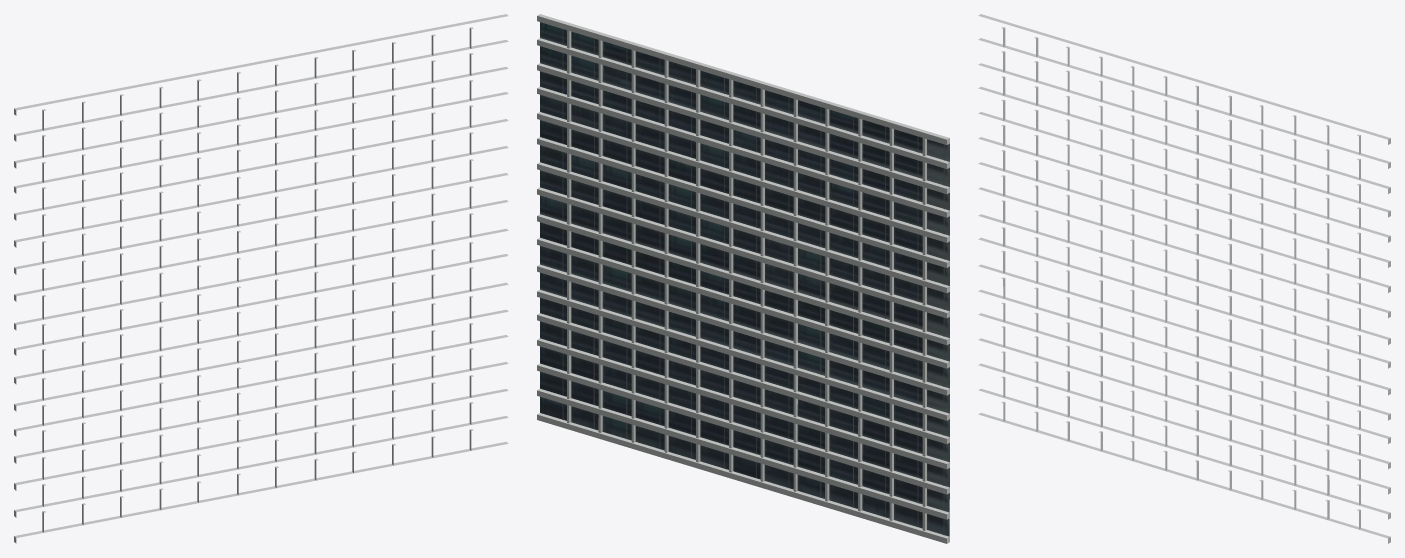
3 views of the same model, side by side, from view 1: azimuth 30°, elevation 25°; view 2: azimuth 150°, elevation 25°; view 3: azimuth 330°, elevation 25° (orthographic). The views are drawn at different scales.
Parts seen in each view (by area): view 1: Mandarin Oriental balcony fascia; view 2: Mandarin Oriental guestroom glass, Mandarin Oriental balcony fascia, Mandarin Oriental dark sash; view 3: Mandarin Oriental balcony fascia.
Part boxes in pixels (<box>): Mandarin Oriental balcony fascia: <box>14,14,508,543</box>; Mandarin Oriental guestroom glass: <box>540,22,949,536</box>; Mandarin Oriental balcony fascia: <box>537,14,949,543</box>; Mandarin Oriental dark sash: <box>562,29,944,534</box>; Mandarin Oriental balcony fascia: <box>978,14,1390,543</box>.
Size of the model in its own units: 54.22 by 48.15 by 5.87.
Materials: 3 (1 with a texture image).
